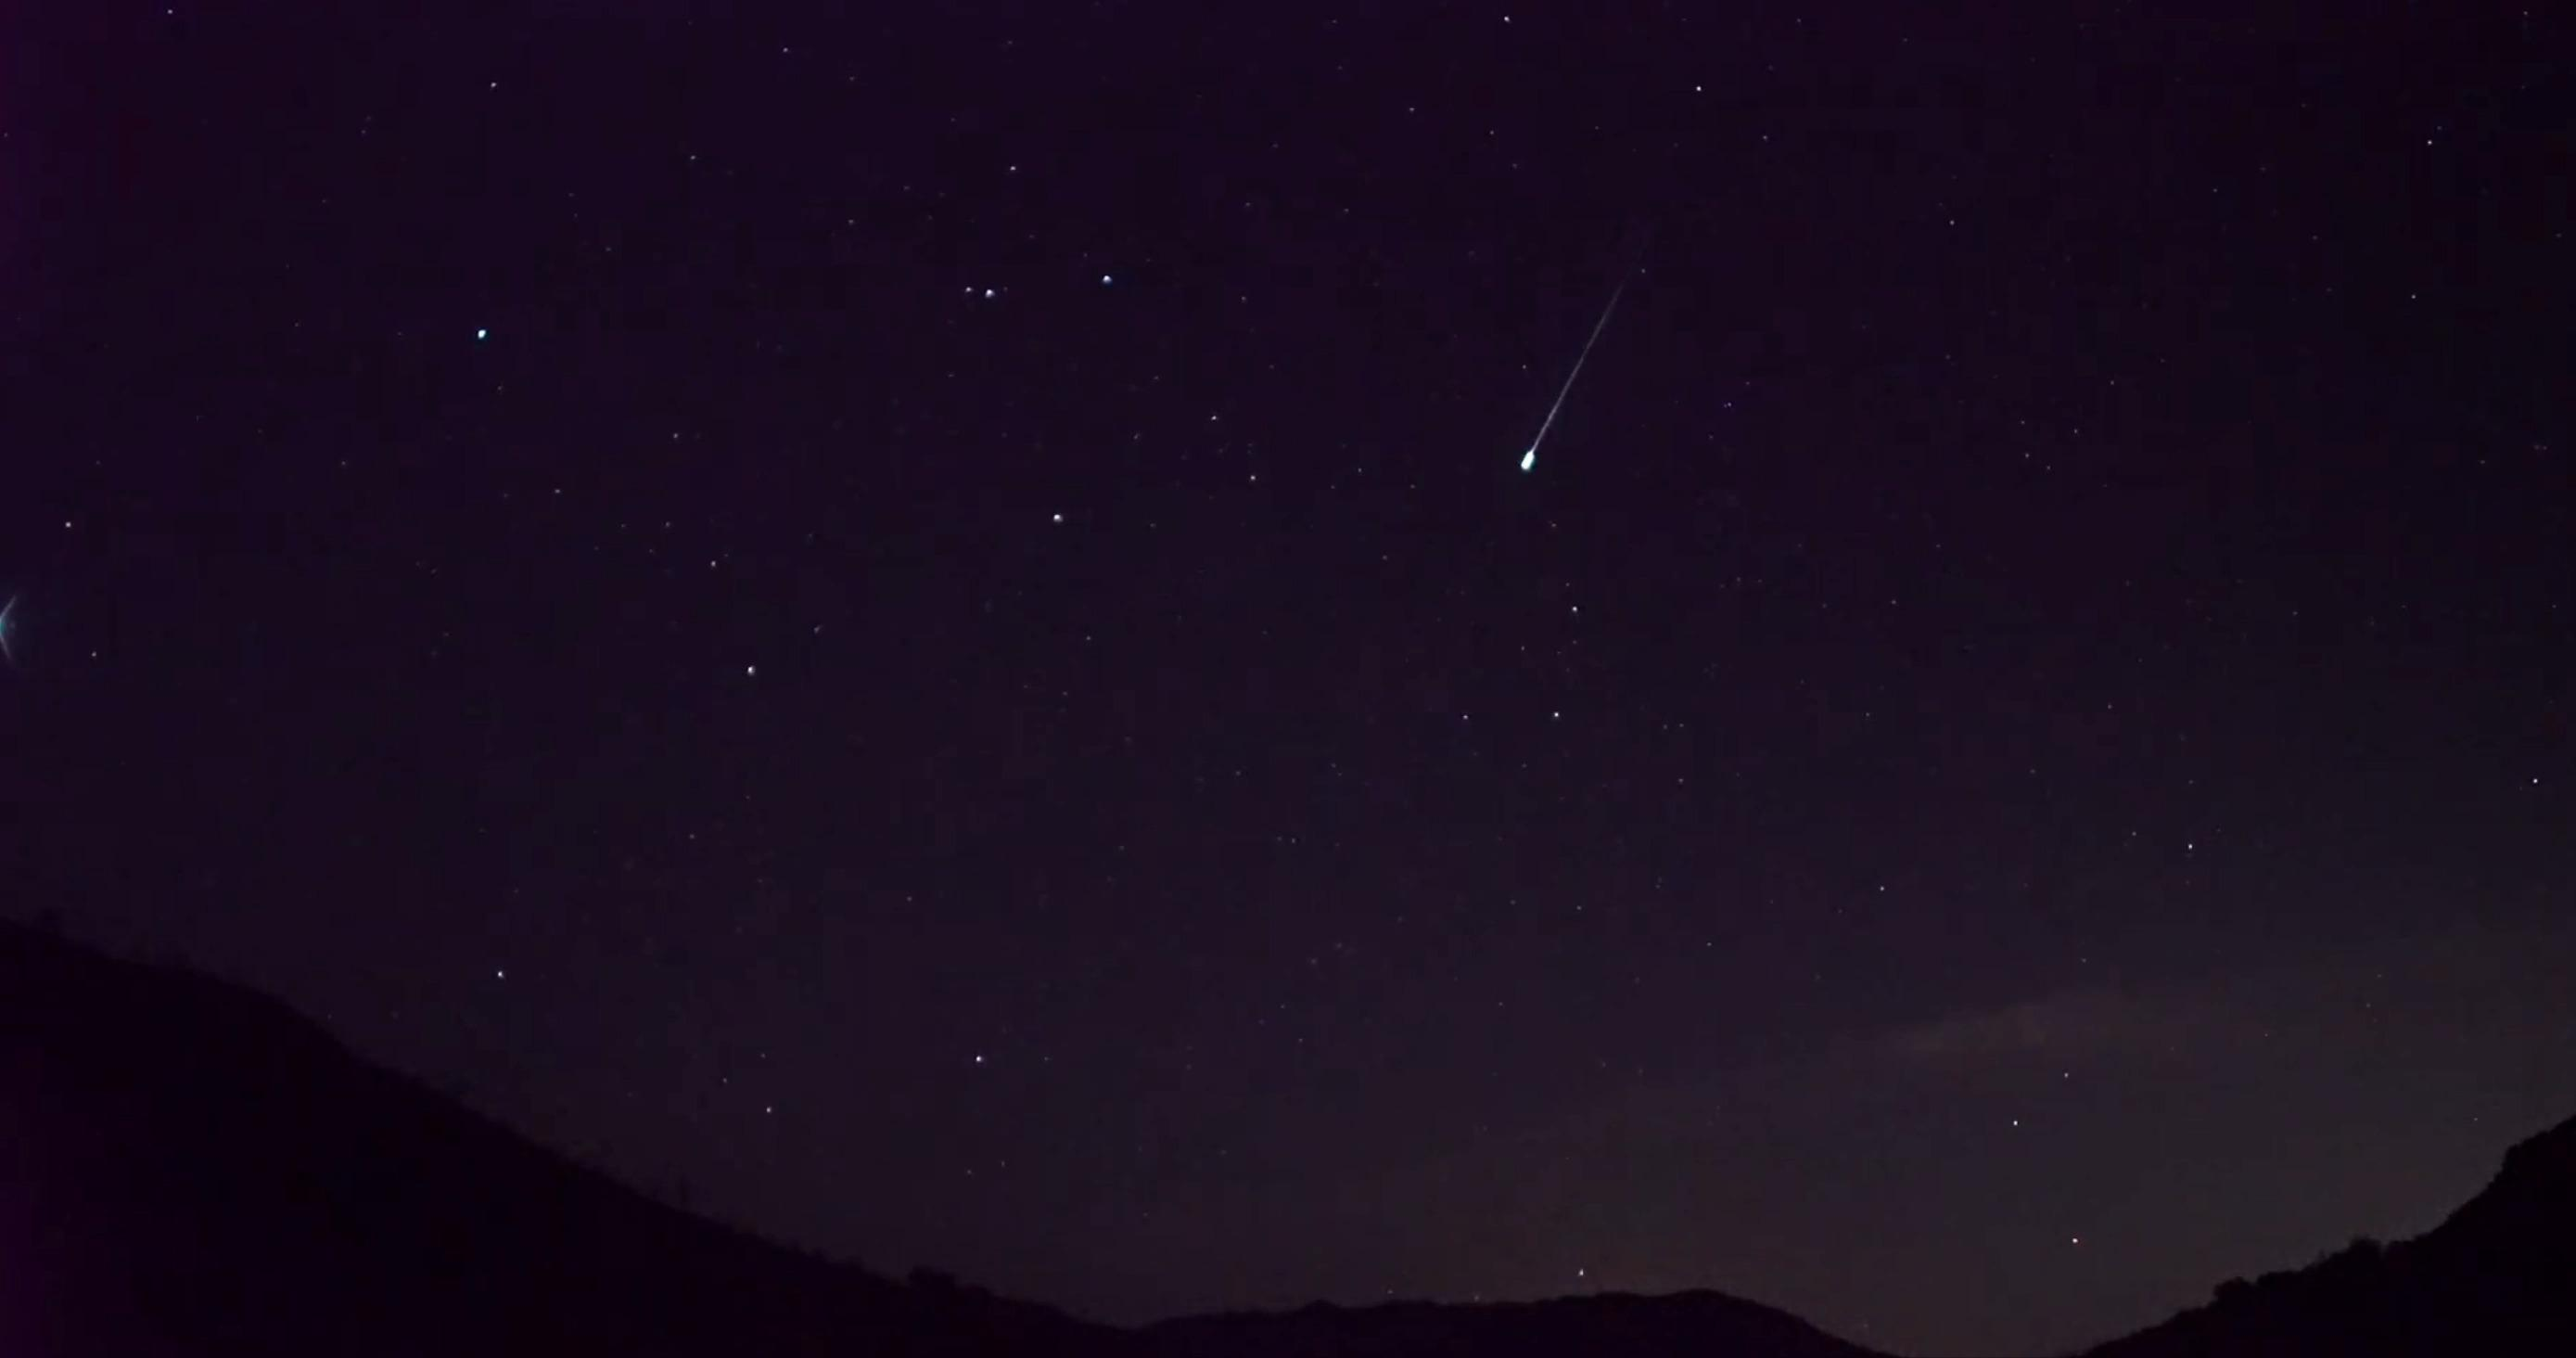meteorite: (1438, 283, 1692, 498)
